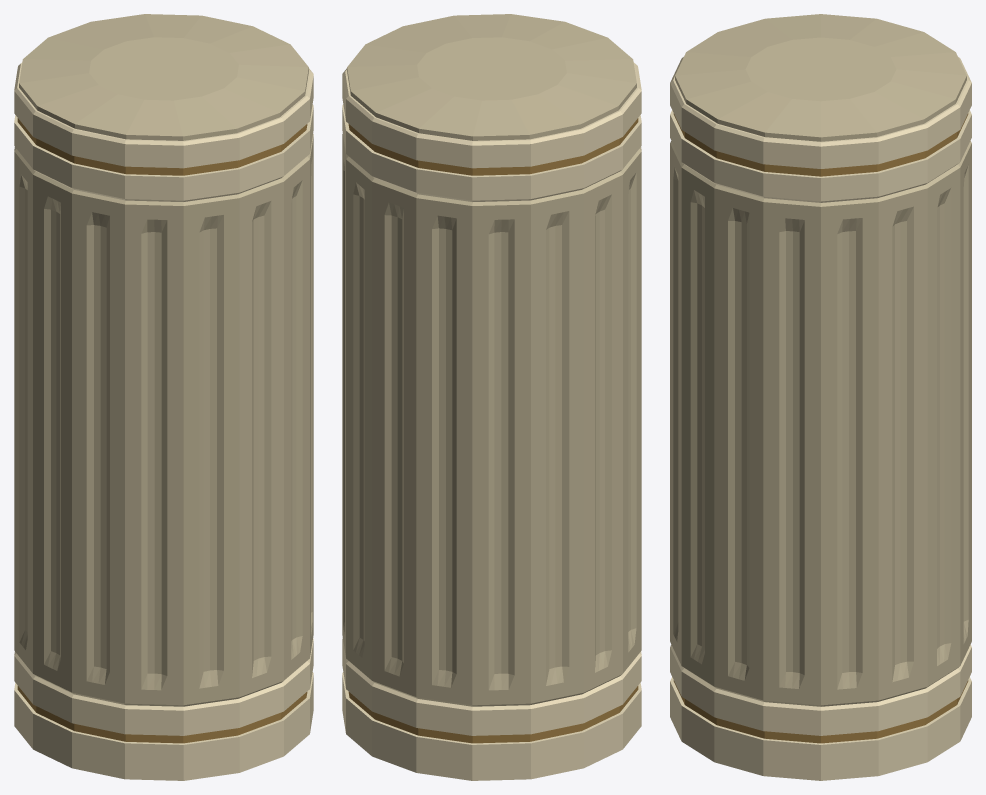
The model's file is shade-pillar-v01.glb.
3 views of the same model, side by side, from view 1: azimuth 30°, elevation 25°; view 2: azimuth 150°, elevation 25°; view 3: azimuth 270°, elevation 25° (orthographic).
Visible parts, largest first — view 1: Shadow sandstone 2, Shadow sandstone light 0, Shadow brass 1; view 2: Shadow sandstone 2, Shadow sandstone light 0, Shadow brass 1; view 3: Shadow sandstone 2, Shadow sandstone light 0, Shadow brass 1.
Boxes of the visible parts, box(x1,y1,x2,y2) form: Shadow sandstone 2: box(14, 14, 313, 706); Shadow sandstone light 0: box(14, 62, 313, 780); Shadow brass 1: box(17, 118, 307, 743); Shadow sandstone 2: box(342, 14, 641, 706); Shadow sandstone light 0: box(342, 62, 641, 780); Shadow brass 1: box(348, 118, 638, 743); Shadow sandstone 2: box(670, 14, 971, 706); Shadow sandstone light 0: box(670, 57, 971, 780); Shadow brass 1: box(673, 113, 968, 743).
Size of the model in its own units: 1.52 by 3.6 by 1.52.
